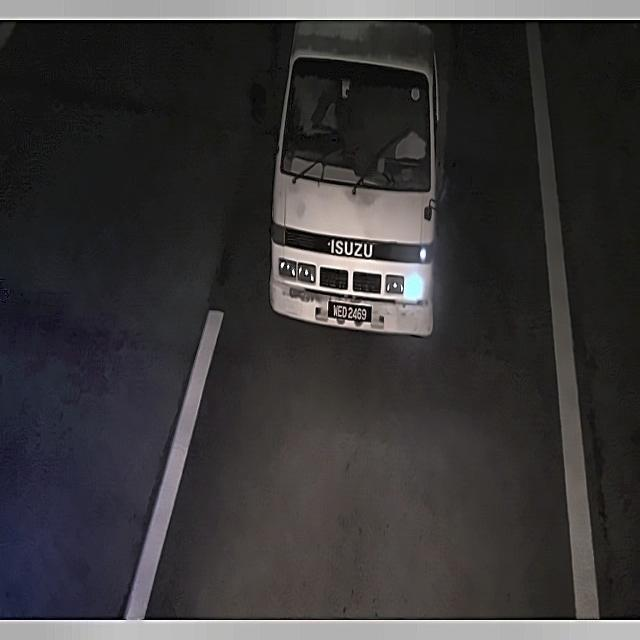car: (323, 298, 377, 327)
